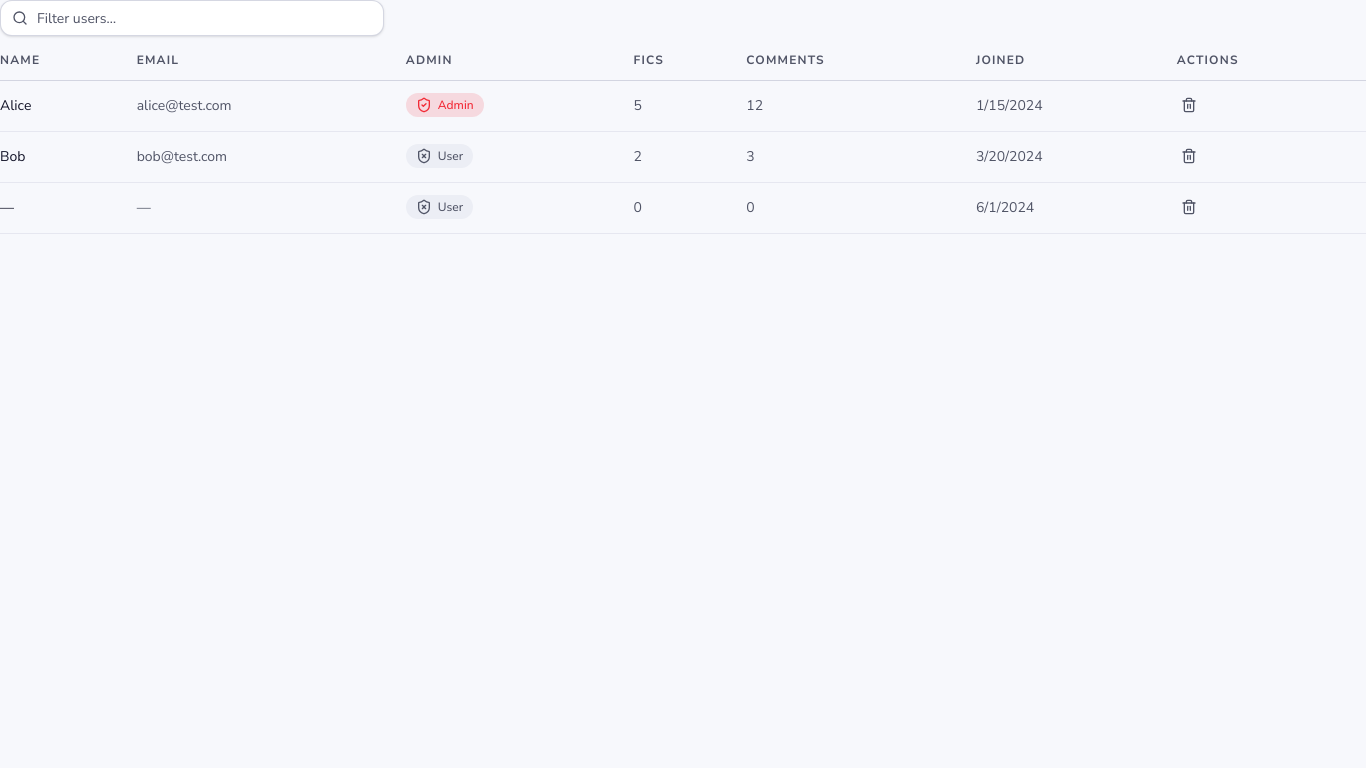
it: UsersSection › opens confirm modal on delete click
The image size is (1366, 768).
Expected: the link "Alice" is shown, [0,96,31,115]
Click the button named "Delete user" in the row of "alice@test.com" at (1189, 105), box [1177,93,1201,117]
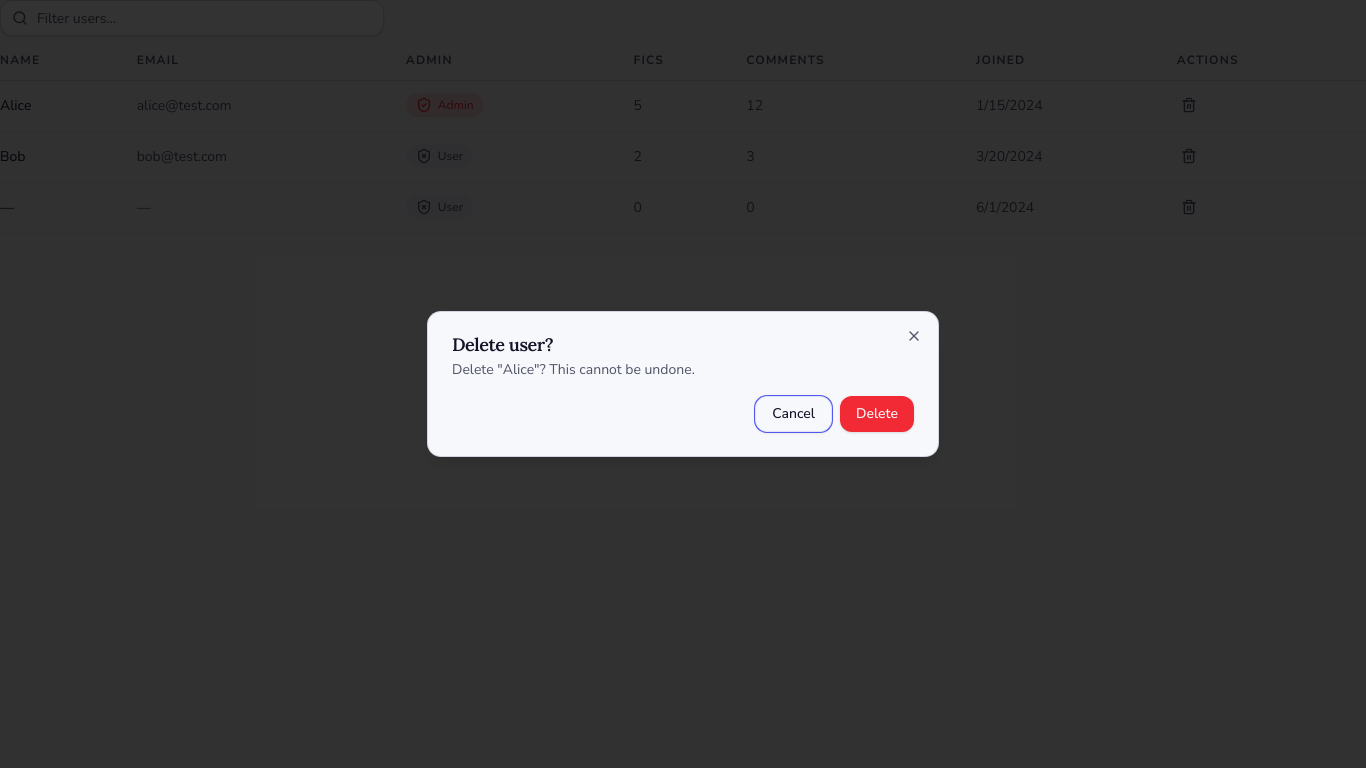
Expected: the heading "Delete user?" is shown, [452,333,553,356]
Expected: the text "Delete \"Alice\"? This cannot be undone." is shown, [452,360,695,379]
